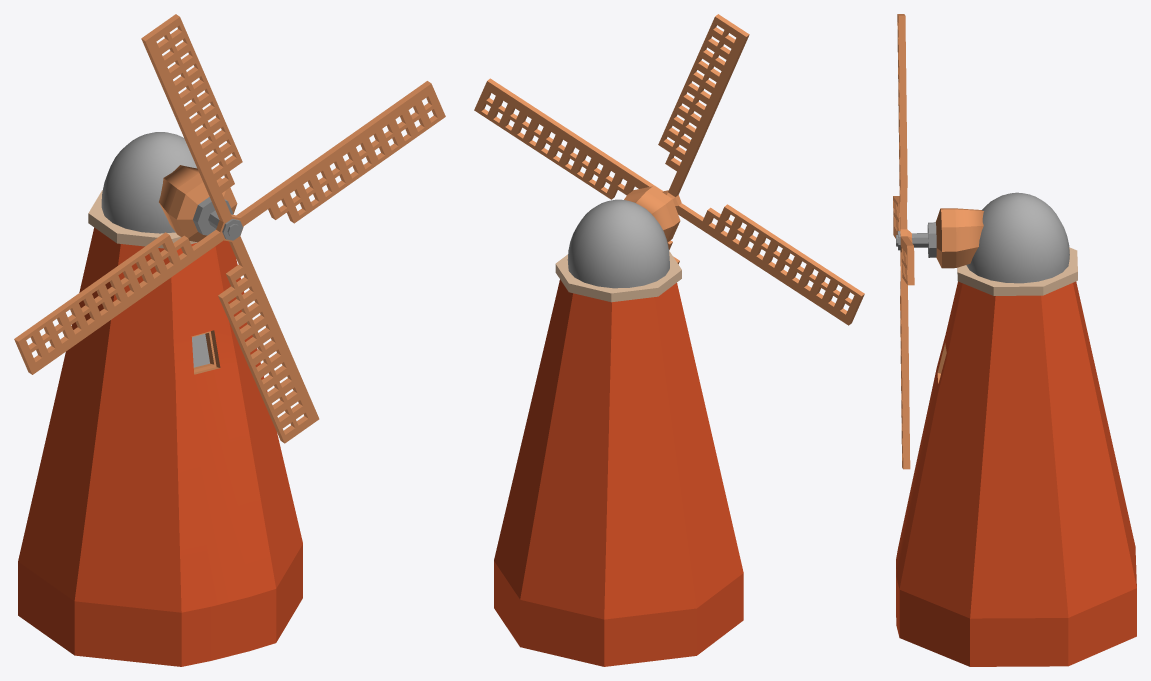
File: mill.fbx
The picture shows the model from 3 angles, left to right: view 1: azimuth 30°, elevation 25°; view 2: azimuth 150°, elevation 25°; view 3: azimuth 270°, elevation 25°; orthographic projection. The views are drawn at different scales.
Visible parts, largest first — view 1: polySurface3; view 2: polySurface3; view 3: polySurface3.
Part boxes in pixels (x1,y1,x2,y2): polySurface3: (14, 14, 445, 666); polySurface3: (474, 14, 864, 666); polySurface3: (893, 14, 1136, 666).
Size of the model in its own units: 1569 by 2236 by 852.
